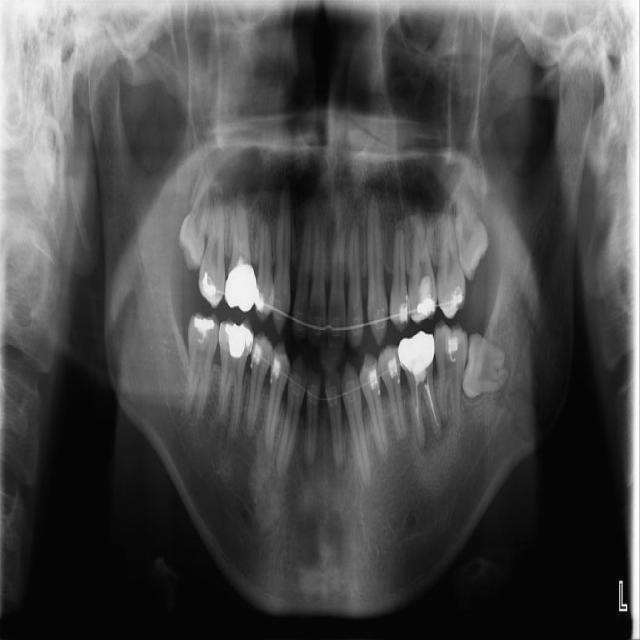Crown: (398, 328, 435, 379), (224, 263, 257, 313)
Filling: (219, 317, 253, 368), (407, 277, 438, 324)
Periapical lesion: (419, 399, 447, 455)
Root Canal Treatment: (424, 378, 438, 428), (415, 388, 418, 432)
impacted tooth: (463, 333, 510, 398)
